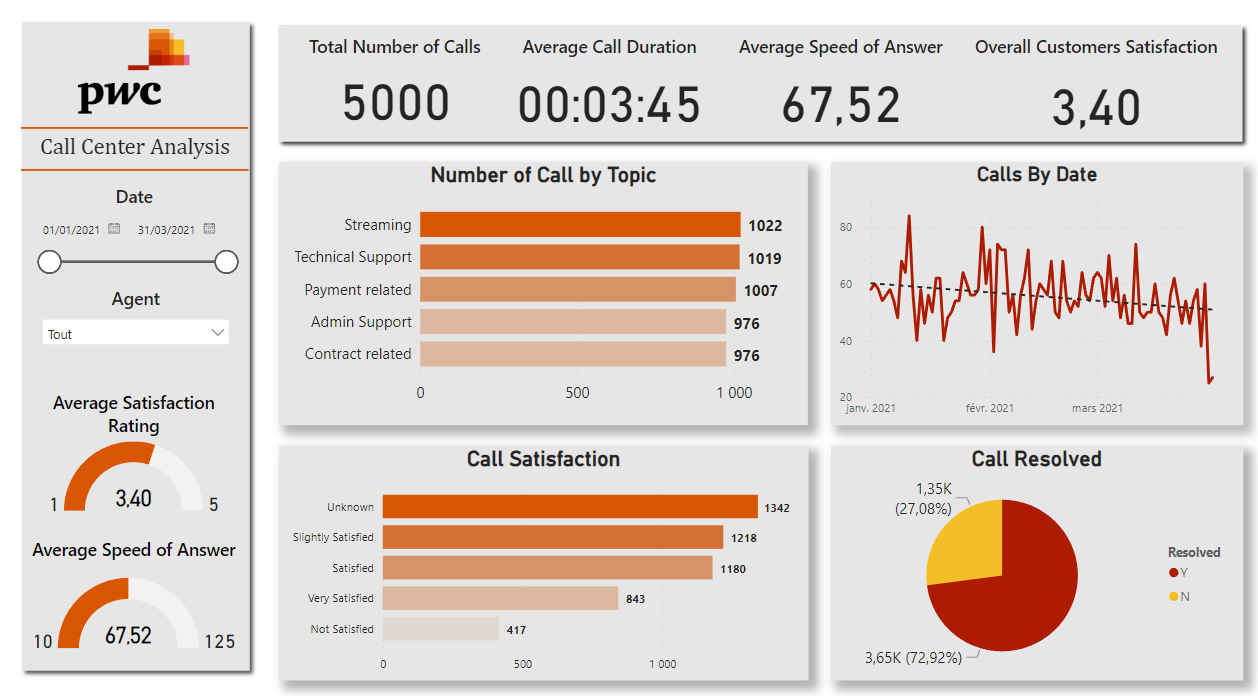

The dashboard page shown, as its layout file describes it:
{"tool":"powerbi","page":{"name":"Call Center Analysis","canvas":[1350,750],"ordinal":1},"visuals":[{"type":"shape","box":[20.2,18.5,259.6,719.7],"z":0},{"type":"shape","box":[293.8,20,1043.2,142.2],"z":1000,"group":"g1"},{"type":"image","box":[76.6,28.7,143.6,100.5],"z":1000},{"type":"textbox","box":[34.3,139.2,232.9,50],"z":2000,"group":"g2"},{"type":"slicer","title":"Agent","fields":{"Values":["Sheet1.Agent"]},"box":[41.5,308,218.6,63.8],"z":2000},{"type":"gauge","title":"Average Satisfaction Rating","fields":{"Y":["Sheet1.Overall Customer Satisfaction"],"MinValue":["Sheet1.Min rating"],"MaxValue":["Sheet1.Max rating"]},"box":[32,397.8,236,156.7],"z":3000},{"type":"card","title":"Total Number of Calls","fields":{"Values":["Sheet1.Total number of calls"]},"box":[319.2,40.5,214.5,105.4],"z":4000,"group":"g1"},{"type":"gauge","title":"Average Speed of Answer","fields":{"Y":["Sheet1.Average speed of answer"],"MinValue":["Min(Sheet1.Speed of answer in seconds)"],"MaxValue":["Max(Sheet1.Speed of answer in seconds)1"]},"box":[32,566.3,236,160.1],"z":4000},{"type":"clusteredBarChart","title":"Number of Call by Topic","fields":{"Category":["Sheet1.Topic"],"Y":["CountNonNull(Sheet1.Call Id)"]},"box":[303.8,176.2,562.5,280],"z":5000},{"type":"lineChart","title":"Calls By Date","fields":{"Y":["CountNonNull(Sheet1.Call Id)"],"Category":["Sheet1.Date.Variation.Hiérarchie de dates.Année","Sheet1.Date.Variation.Hiérarchie de dates.Trimestre","Sheet1.Date.Variation.Hiérarchie de dates.Mois","Sheet1.Date.Variation.Hiérarchie de dates.Jour"]},"box":[890,176.2,438.8,280],"z":6000},{"type":"group","id":"g1","title":"Groupe 1","box":[293.8,20,1043.2,142.2],"z":7000},{"type":"card","title":"Average Call Duration","fields":{"Values":["Sheet1.Durée moyenne des appels"]},"box":[1076.2,40.2,244.4,109.6],"z":7000,"group":"g1"},{"type":"clusteredBarChart","title":"Call Satisfaction","fields":{"Y":["CountNonNull(Sheet1.Call Id)"],"Category":["Sheet1.Satisfaction"]},"box":[303.3,476.7,563.3,250],"z":8000},{"type":"pieChart","title":"Call Resolved","fields":{"Series":["Sheet1.Resolved"],"Y":["CountNonNull(Sheet1.Call Id)"],"Category":["Sheet1.Resolved"]},"box":[890,476.7,438.3,250],"z":9000},{"type":"slicer","title":"Date","fields":{"Values":["Sheet1.Date"]},"box":[30.3,199.5,237.8,108.5],"z":10000},{"type":"group","id":"g2","title":"Groupe 2","box":[29.2,129.1,241.7,64.3],"z":11000},{"type":"card","title":"Number of Calls Answered","fields":{"Values":["Sheet1.Total number of calls answered"]},"box":[533.1,42.1,271.3,102.1],"z":12000},{"type":"card","title":"Number of Calls Not Answered","fields":{"Values":["Sheet1.Total number of calls not answered"]},"box":[803.9,42.1,273,106.2],"z":13000},{"type":"shape","box":[29.2,173.4,241.7,20],"z":13000,"group":"g2"},{"type":"shape","box":[29.2,129.1,241.3,20],"z":14000,"group":"g2"}]}

Visuals, with their boxes in screenshot pixels (x1, y1, x2, y2), scaled from the page's 1350x750 canvas onto the 1258x696 screenshot:
shape: <region>19, 17, 261, 685</region>
shape: <region>274, 19, 1246, 151</region>
image: <region>71, 27, 205, 120</region>
textbox: <region>32, 129, 249, 176</region>
"Agent" slicer: <region>39, 286, 242, 345</region>
"Average Satisfaction Rating" gauge: <region>30, 369, 250, 515</region>
"Total Number of Calls" card: <region>297, 38, 497, 135</region>
"Average Speed of Answer" gauge: <region>30, 526, 250, 674</region>
"Number of Call by Topic" clusteredBarChart: <region>283, 164, 807, 423</region>
"Calls By Date" lineChart: <region>829, 164, 1238, 423</region>
"Groupe 1" group: <region>274, 19, 1246, 151</region>
"Average Call Duration" card: <region>1003, 37, 1231, 139</region>
"Call Satisfaction" clusteredBarChart: <region>283, 442, 808, 674</region>
"Call Resolved" pieChart: <region>829, 442, 1238, 674</region>
"Date" slicer: <region>28, 185, 250, 286</region>
"Groupe 2" group: <region>27, 120, 252, 179</region>
"Number of Calls Answered" card: <region>497, 39, 750, 134</region>
"Number of Calls Not Answered" card: <region>749, 39, 1004, 138</region>
shape: <region>27, 161, 252, 179</region>
shape: <region>27, 120, 252, 138</region>
